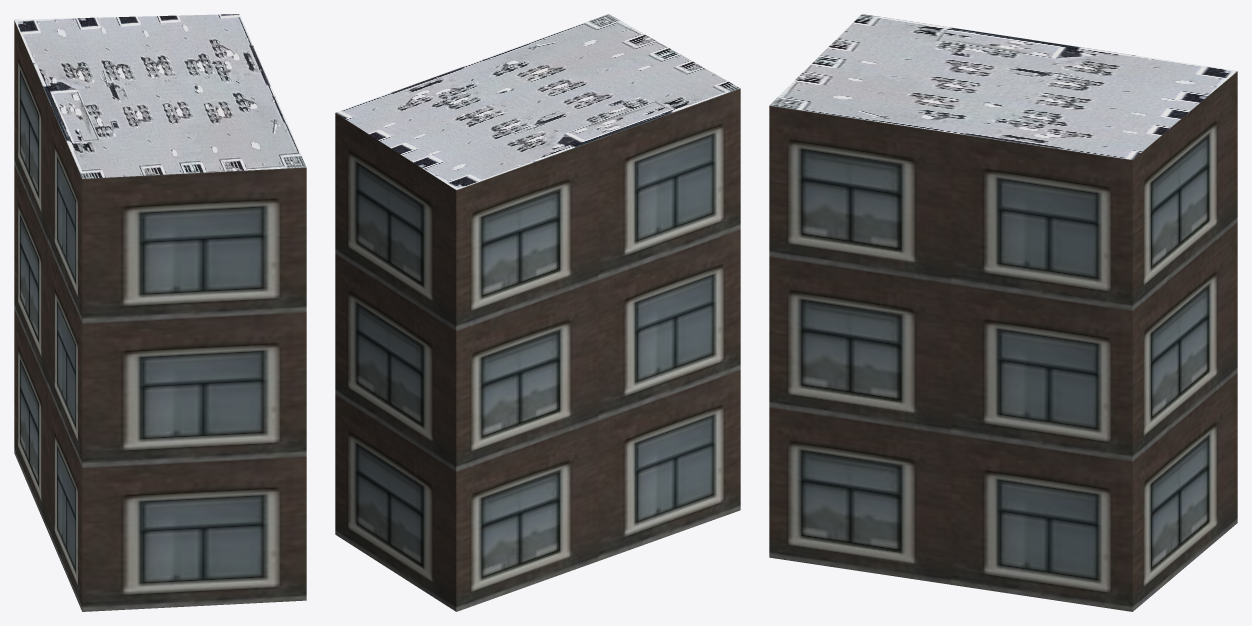
File: ResTex__4190.fbx
3 renders of one model, left to right at view 1: azimuth 30°, elevation 25°; view 2: azimuth 150°, elevation 25°; view 3: azimuth 270°, elevation 25°, orthographic. The views are drawn at different scales.
Parts seen in each view (by area): view 1: CityEngineMaterial_16_m, CityEngineMaterial_15_m; view 2: CityEngineMaterial_16_m, CityEngineMaterial_15_m; view 3: CityEngineMaterial_16_m, CityEngineMaterial_15_m.
Boxes of the visible parts, x1,y1,x2,y2 form: CityEngineMaterial_16_m: [14, 20, 306, 611]; CityEngineMaterial_15_m: [14, 14, 306, 178]; CityEngineMaterial_16_m: [335, 88, 740, 611]; CityEngineMaterial_15_m: [335, 14, 740, 189]; CityEngineMaterial_16_m: [769, 71, 1237, 611]; CityEngineMaterial_15_m: [769, 14, 1237, 159].
Size of the model in its own units: 6.24 by 9 by 8.46.
Materials: 2 (2 with a texture image).
